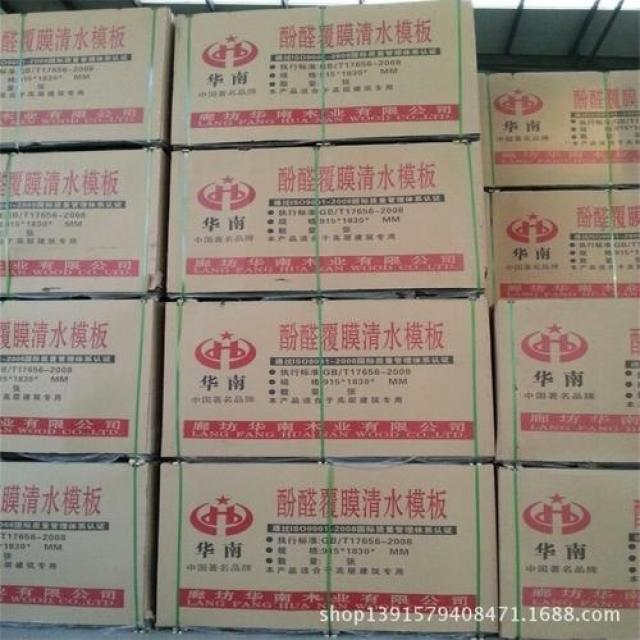box: (156, 462, 499, 632), (161, 298, 495, 458), (168, 140, 485, 297), (172, 0, 481, 147), (0, 460, 157, 627), (0, 147, 168, 297), (497, 465, 639, 640), (0, 300, 161, 454), (0, 6, 175, 147), (497, 298, 639, 462), (477, 69, 639, 188), (485, 188, 640, 307)
